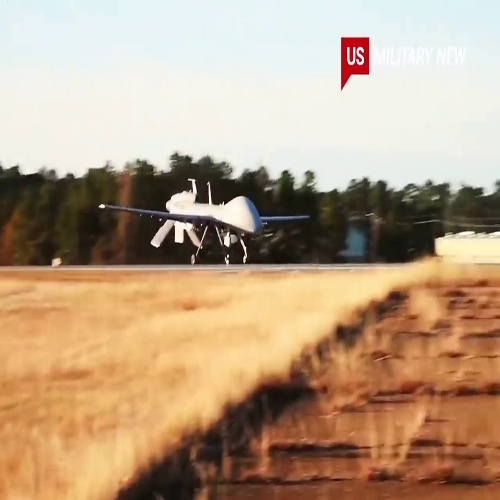uav295: (97, 176, 312, 267)
